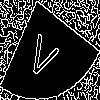V: (24, 24, 64, 82)
